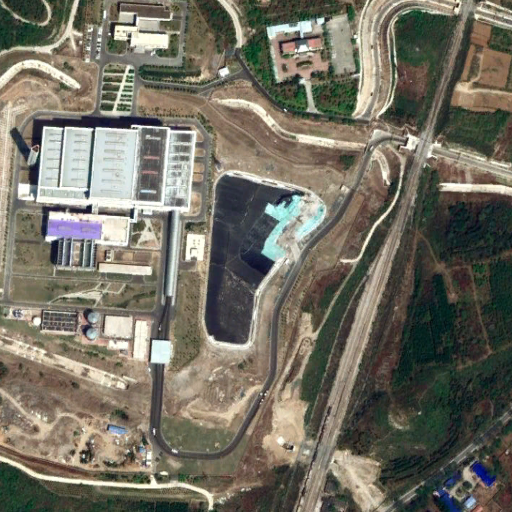lf: (203, 170, 325, 347)
